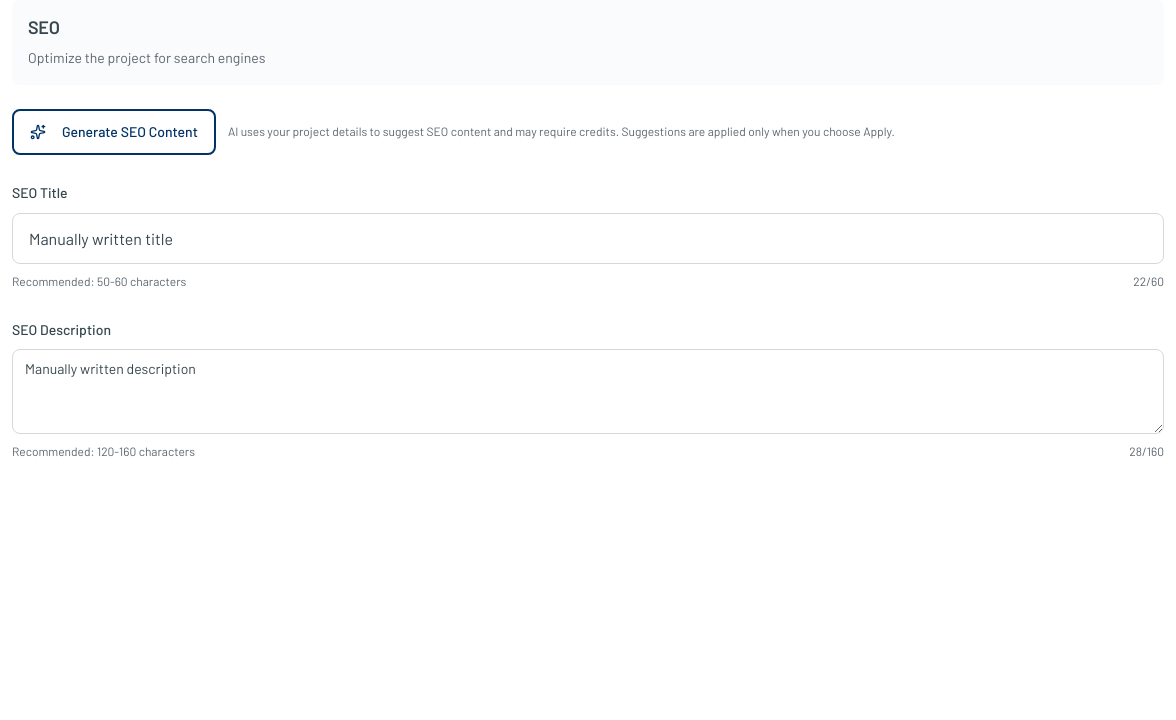
reviewing AI SEO suggestions › shows useful guidance for HTTP 402 while preserving fields
Click the button "Generate SEO Content" at (114, 132), box [12,109,216,155]
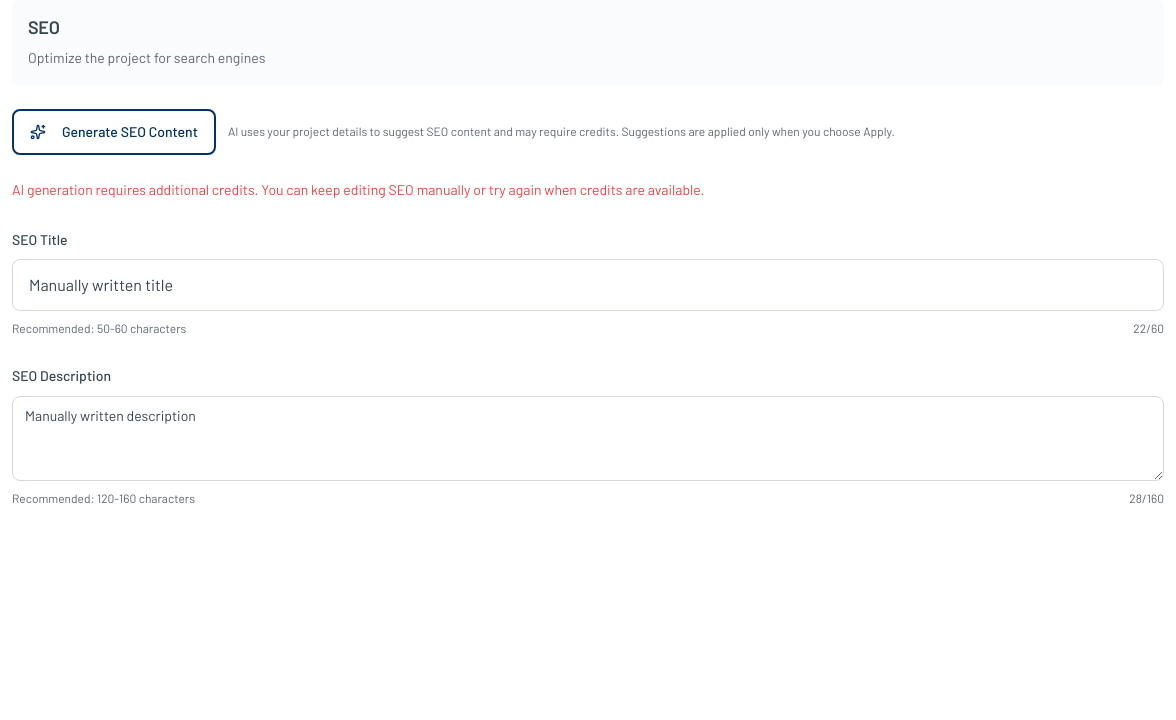
Expected: the field labelled "SEO Title" holds "Manually written title", [12,259,1164,311]
Expected: the message shows "additional credits", [12,181,704,198]
